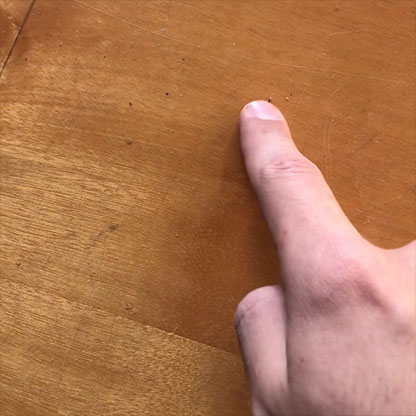fingertip: (229, 84, 307, 144)
